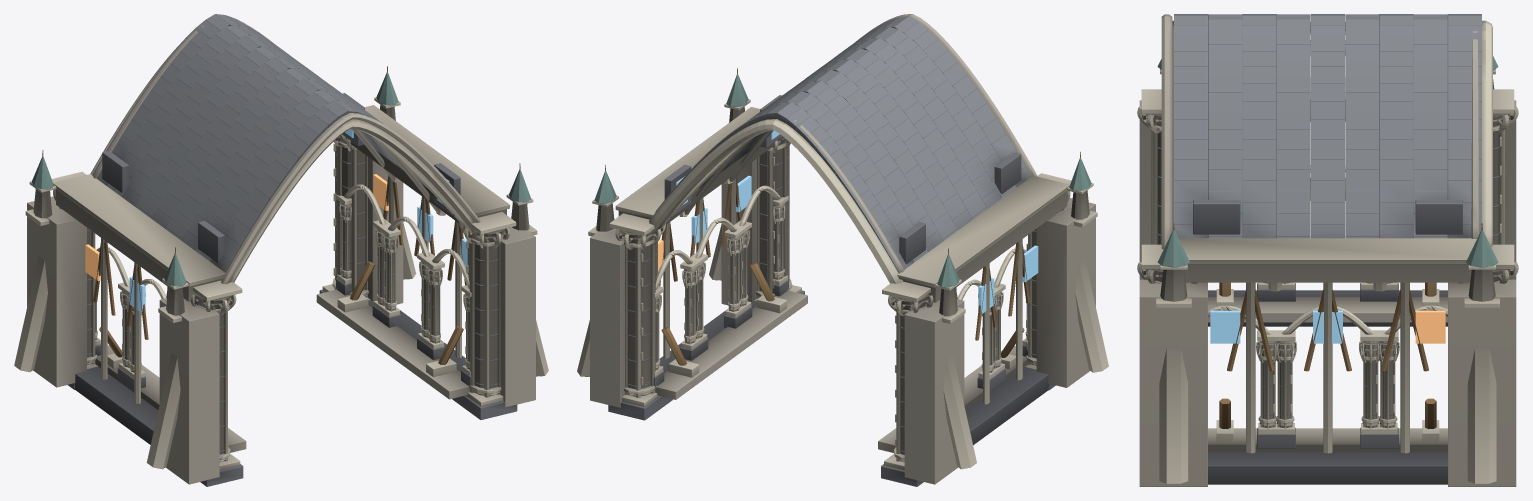
The model's file is nave-bay.glb.
3 renders of one model, left to right at view 1: azimuth 30°, elevation 25°; view 2: azimuth 150°, elevation 25°; view 3: azimuth 270°, elevation 25°, orthographic. The views are drawn at different scales.
Parts seen in each view (by area): view 1: nave-bay__limestone, nave-bay__pale, nave-bay__slate, nave-bay__shadow, nave-bay__bronze, nave-bay__copper, nave-bay__rose_blue, nave-bay__rose_amber; view 2: nave-bay__limestone, nave-bay__pale, nave-bay__slate, nave-bay__shadow, nave-bay__bronze, nave-bay__copper, nave-bay__rose_blue; view 3: nave-bay__slate, nave-bay__limestone, nave-bay__pale, nave-bay__shadow, nave-bay__bronze, nave-bay__rose_blue, nave-bay__copper, nave-bay__rose_amber.
Part boxes in pixels (box(x1,y1,x2,y2)): nave-bay__limestone: box(27, 18, 535, 484); nave-bay__pale: box(14, 42, 548, 469); nave-bay__slate: box(92, 14, 426, 272); nave-bay__shadow: box(68, 93, 517, 486); nave-bay__bronze: box(42, 66, 520, 364); nave-bay__copper: box(31, 72, 531, 286); nave-bay__rose_blue: box(129, 129, 467, 312); nave-bay__rose_amber: box(85, 174, 388, 281); nave-bay__limestone: box(590, 14, 1095, 484); nave-bay__pale: box(577, 99, 1108, 470); nave-bay__slate: box(655, 16, 1030, 273); nave-bay__shadow: box(608, 95, 1055, 486); nave-bay__bronze: box(605, 68, 1080, 365); nave-bay__copper: box(594, 74, 1091, 287); nave-bay__rose_blue: box(676, 130, 1038, 313); nave-bay__slate: box(1174, 14, 1481, 238); nave-bay__limestone: box(1139, 14, 1516, 486); nave-bay__pale: box(1137, 20, 1518, 483); nave-bay__shadow: box(1156, 147, 1499, 484); nave-bay__bronze: box(1173, 22, 1482, 428); nave-bay__rose_blue: box(1210, 310, 1342, 343); nave-bay__copper: box(1157, 56, 1498, 267); nave-bay__rose_amber: box(1415, 310, 1445, 343).
Size of the model in its own units: 124 by 98.26 by 89.04.
